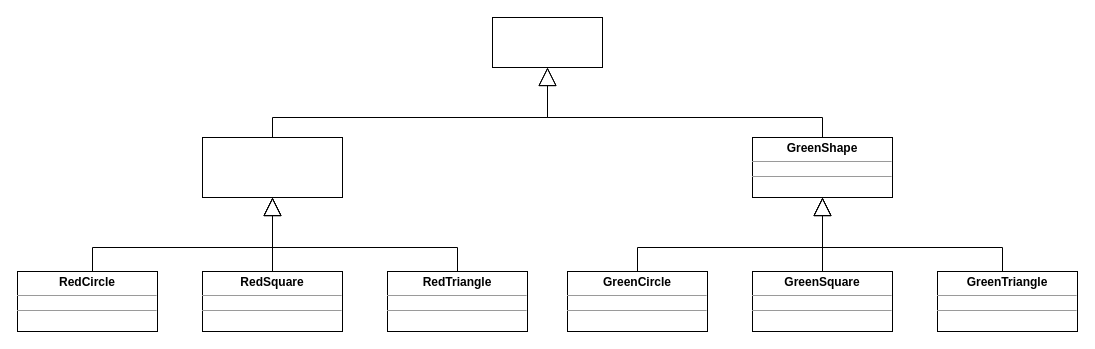
Some shapes in this 1095 by 349 pixel diagram are drawn without their labels. The box of each missing label's shape, as (x1, y1, x2, y2) in pixels:
RedShape: (202, 136, 342, 198)
«interface» ColoredShape: (492, 16, 602, 68)
